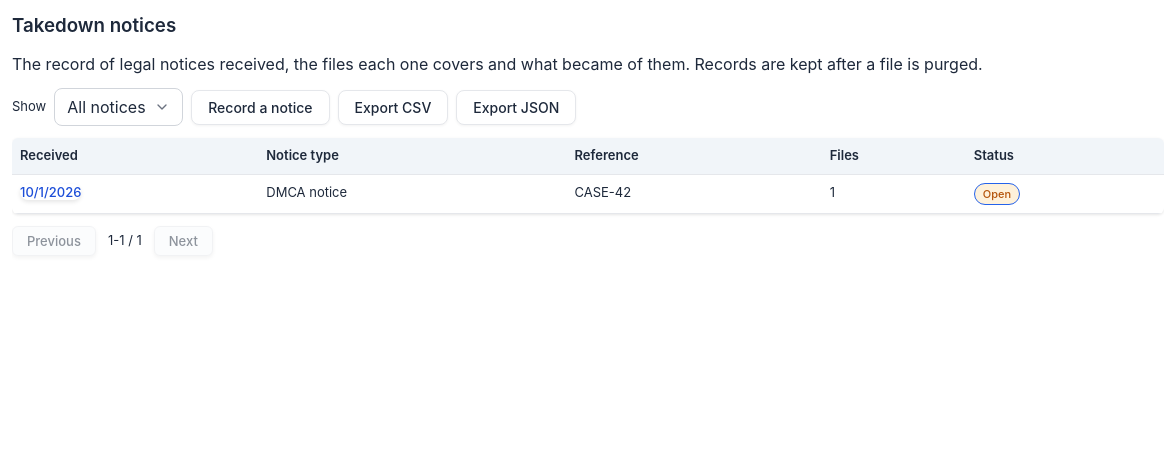
Test: TakedownNoticesPanel › records a counter-notice for a file under takedown and shows the updated status
The width and height of the screenshot is (1164, 476).
expect the text "CASE-42" is shown: met, box [566,174,822,214]
Click the button "10/1/2026": (51, 192) [20,184,81,200]
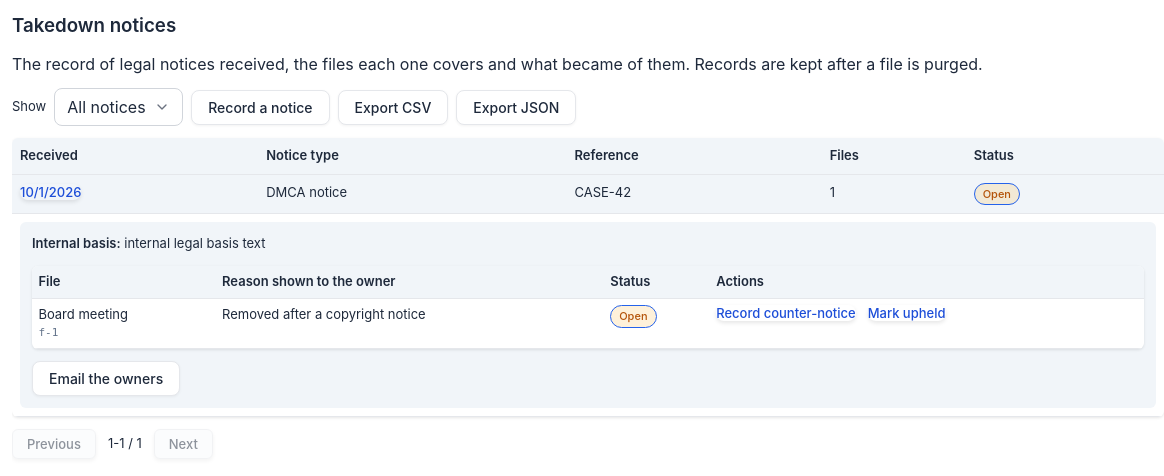
Click the button "Record counter-notice": (786, 313) [716,305,856,321]
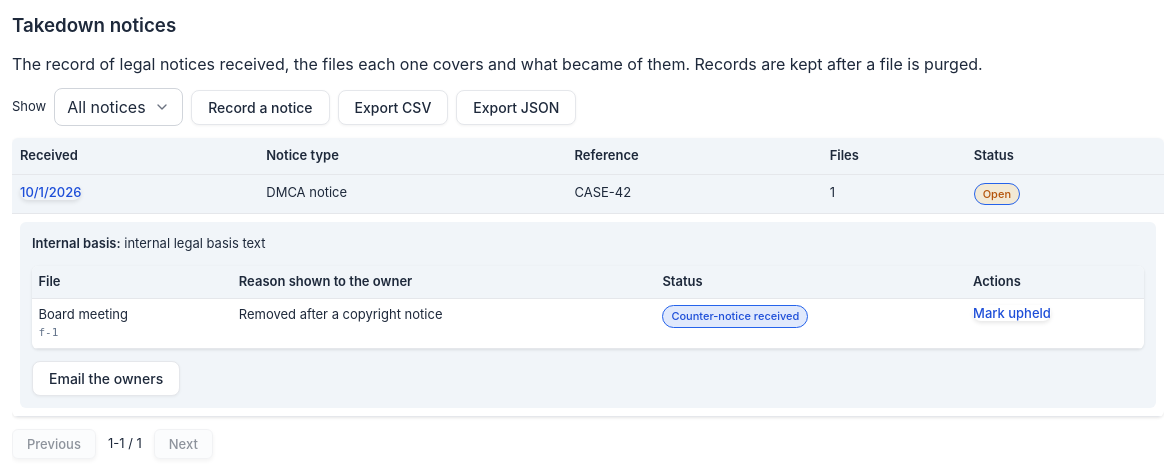
expect the text "Counter-notice received" is shown: met, box [662,305,808,328]
expect the button "Record counter-notice" is gone: met
